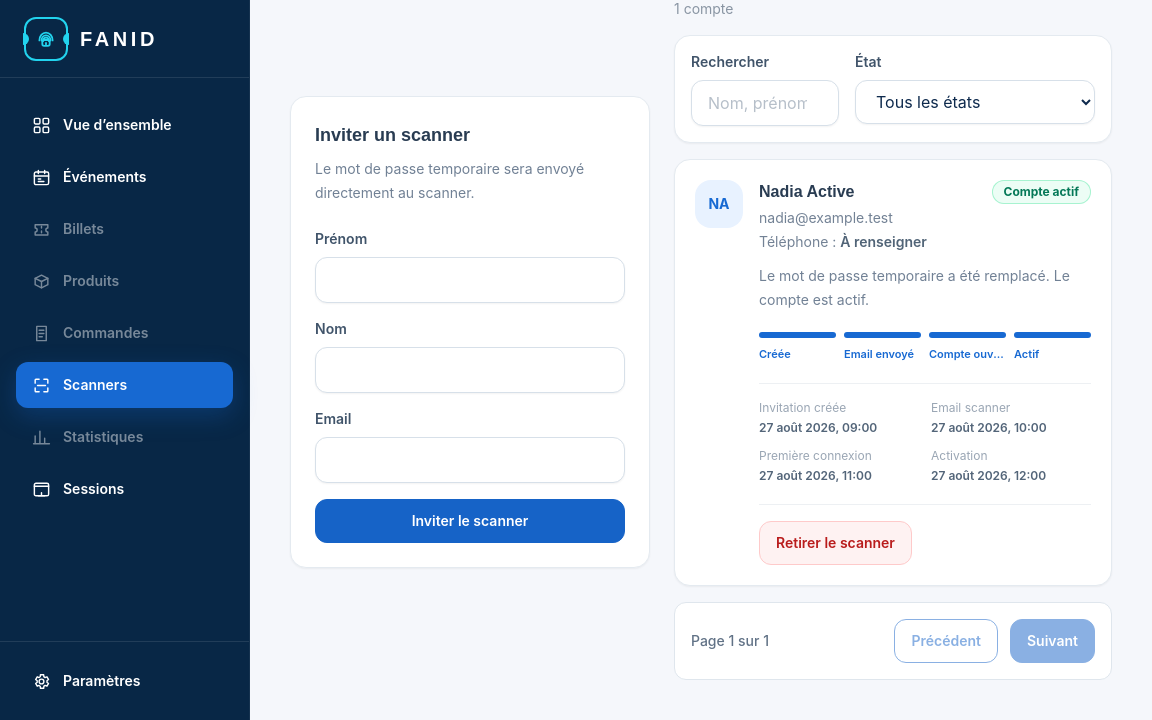
Test: OrganizerScannersPage - OTP actions sensibles › demande REVOKE puis retire le scanner avec le challenge et le code
(page scrolled)
Step 1. Click the button "Retirer le scanner" → point(835, 542), box [759,520,912,564]
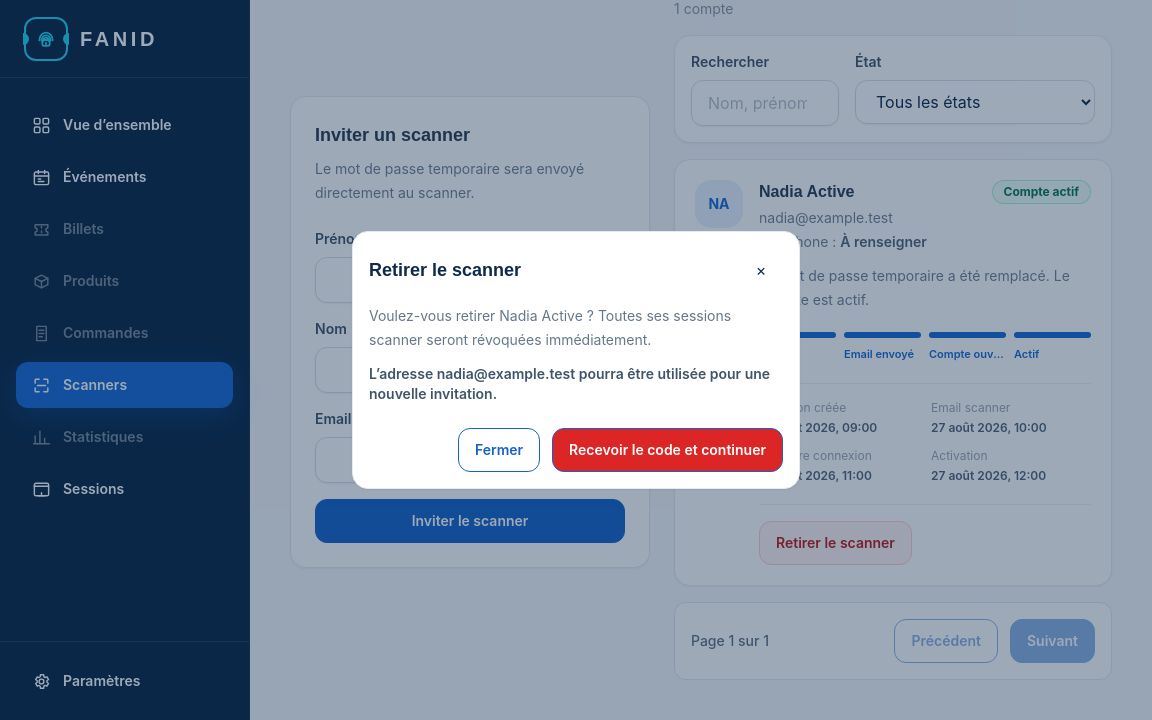
expect the dialog "Retirer le scanner" is shown: met
Step 2. Click the button "Recevoir le code et continuer" → point(668, 450), box [552,428,783,472]
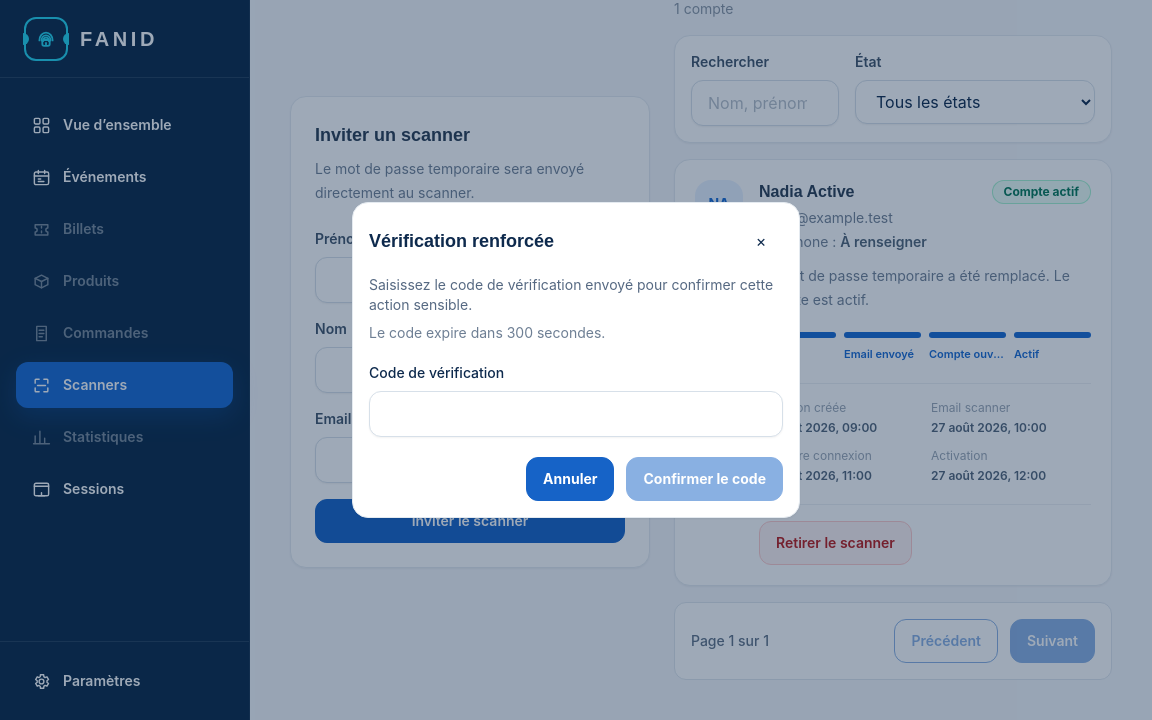
expect the dialog "Vérification renforcée" is shown: met
Step 3. Type "123456" into the field labelled "Code de vérification" → point(576, 414), box [369,391,783,437]
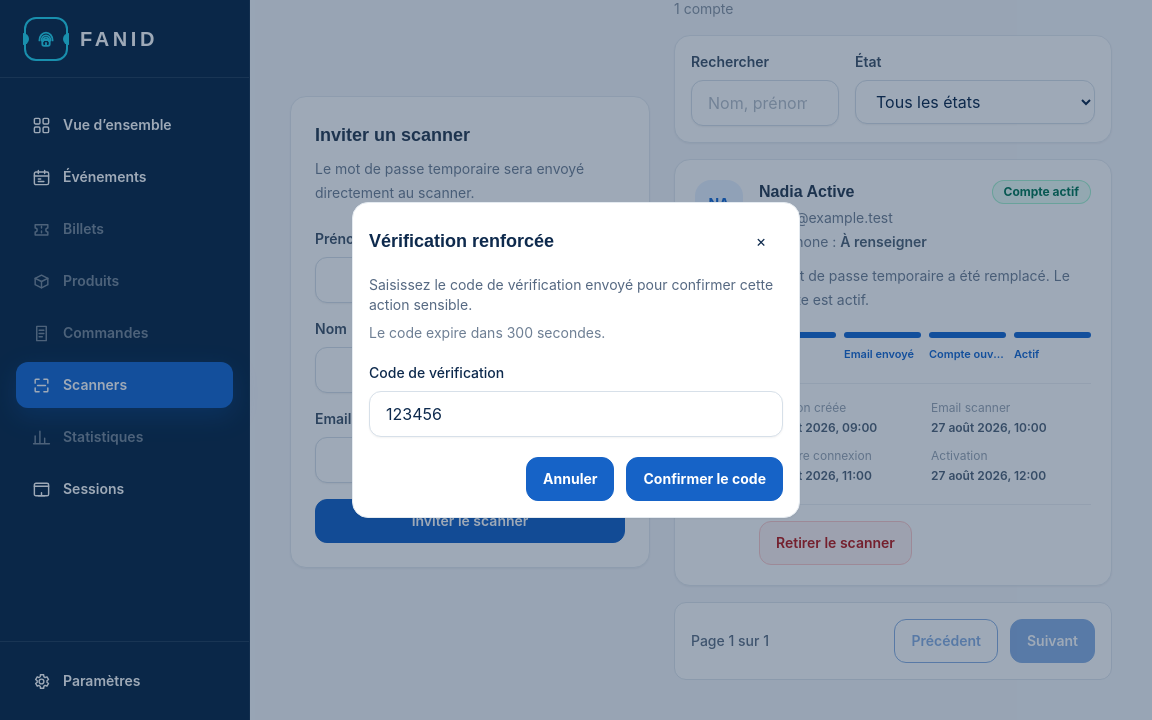
Step 4. Click the button "Confirmer le code" → point(705, 479), box [626,457,783,501]
(page scrolled)
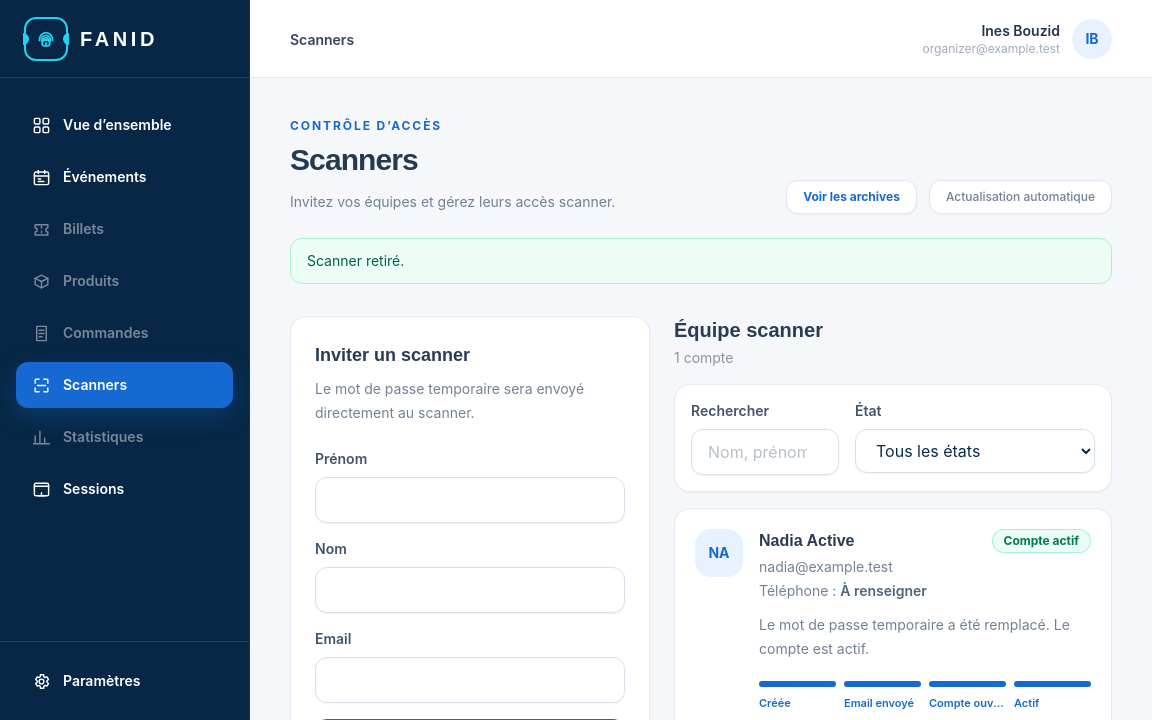
expect the text "Scanner retiré." is shown: met, box [290,238,1112,284]
expect the heading "Vérification renforcée" is gone: met
